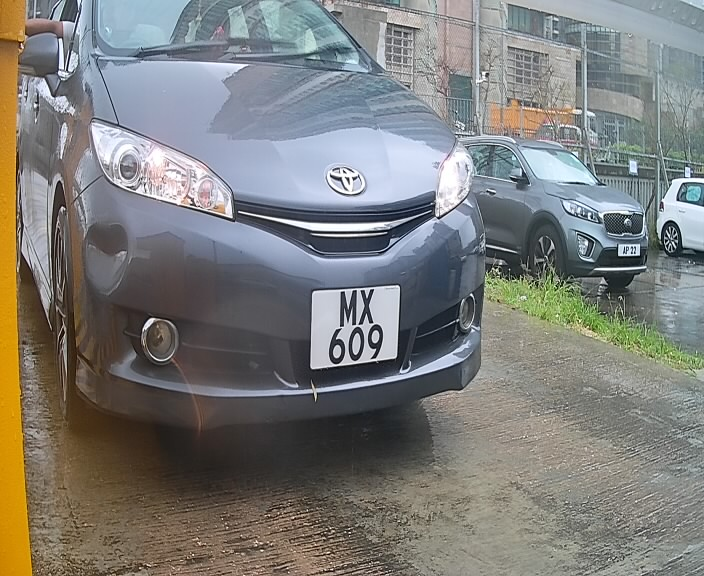License Plate: (306, 278, 409, 378)
